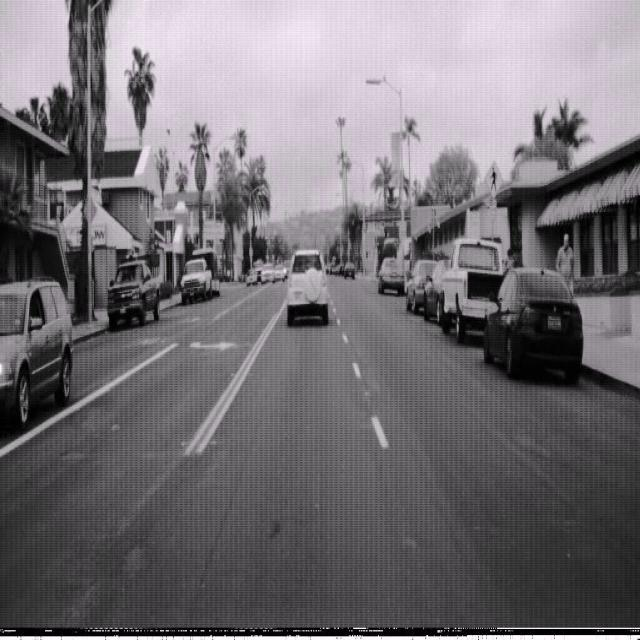pedestrianCrossing: (484, 157, 504, 200)
